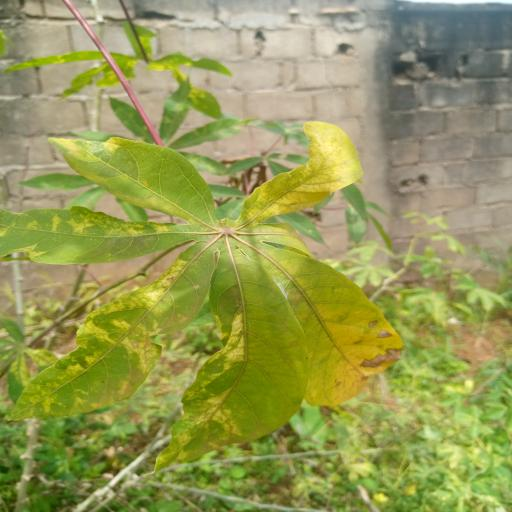Cassava_Mosaic: (0, 121, 410, 477)
